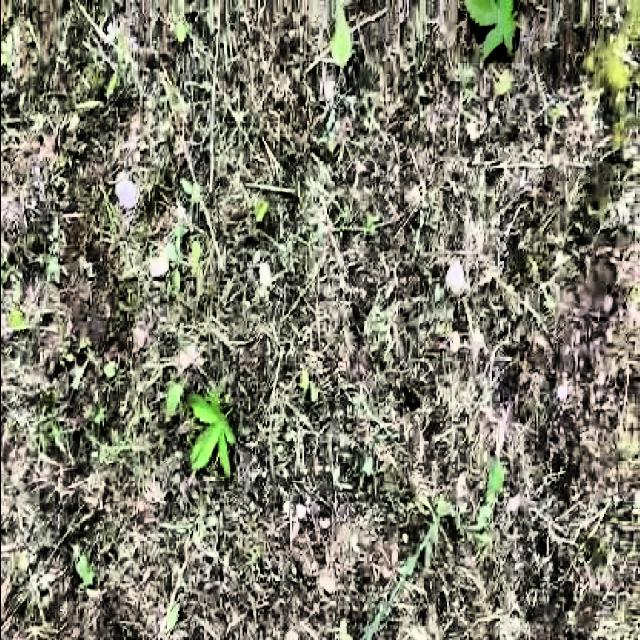Weeds: (181, 392, 237, 480), (456, 0, 521, 63)
